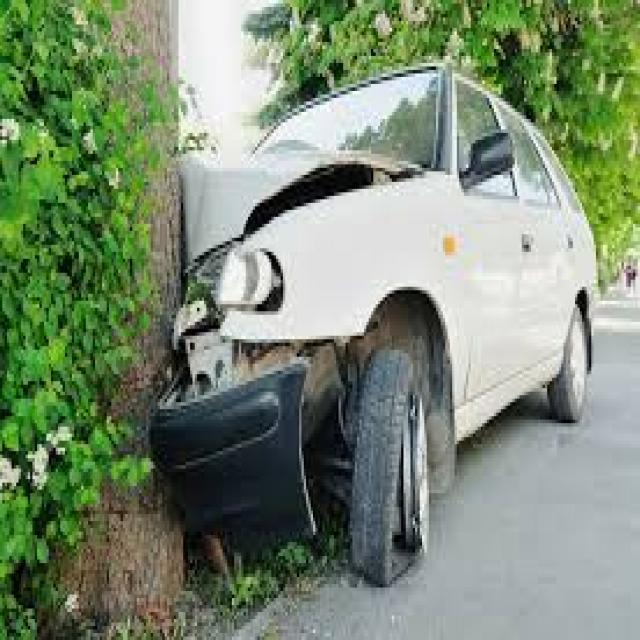accident: (132, 47, 604, 595)
